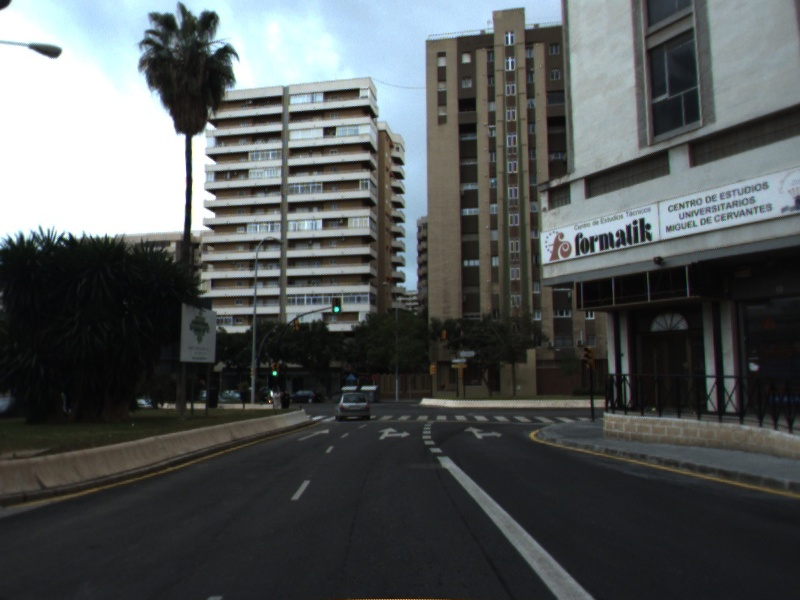STRAIGHT: (296, 426, 331, 442)
STRAIGHT_RIGHT: (462, 424, 506, 441), (376, 426, 413, 442)
